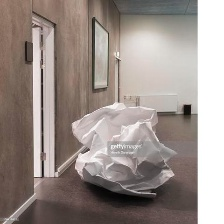book: (57, 90, 187, 205)
